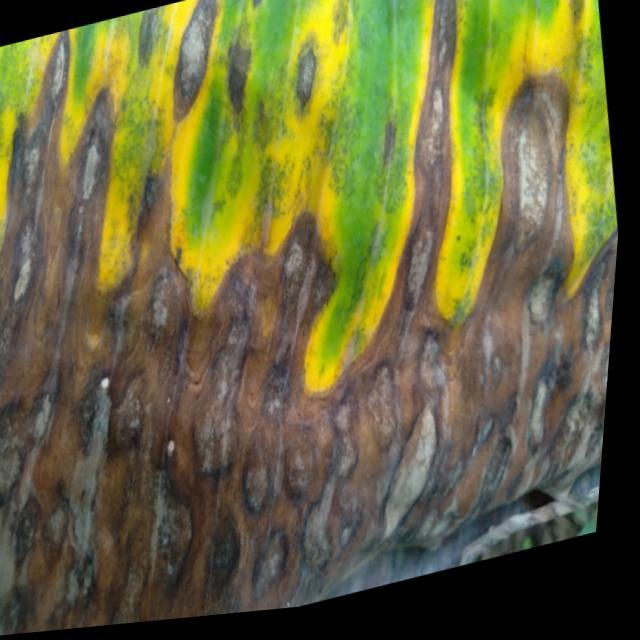Early_rust: (0, 0, 622, 603)
